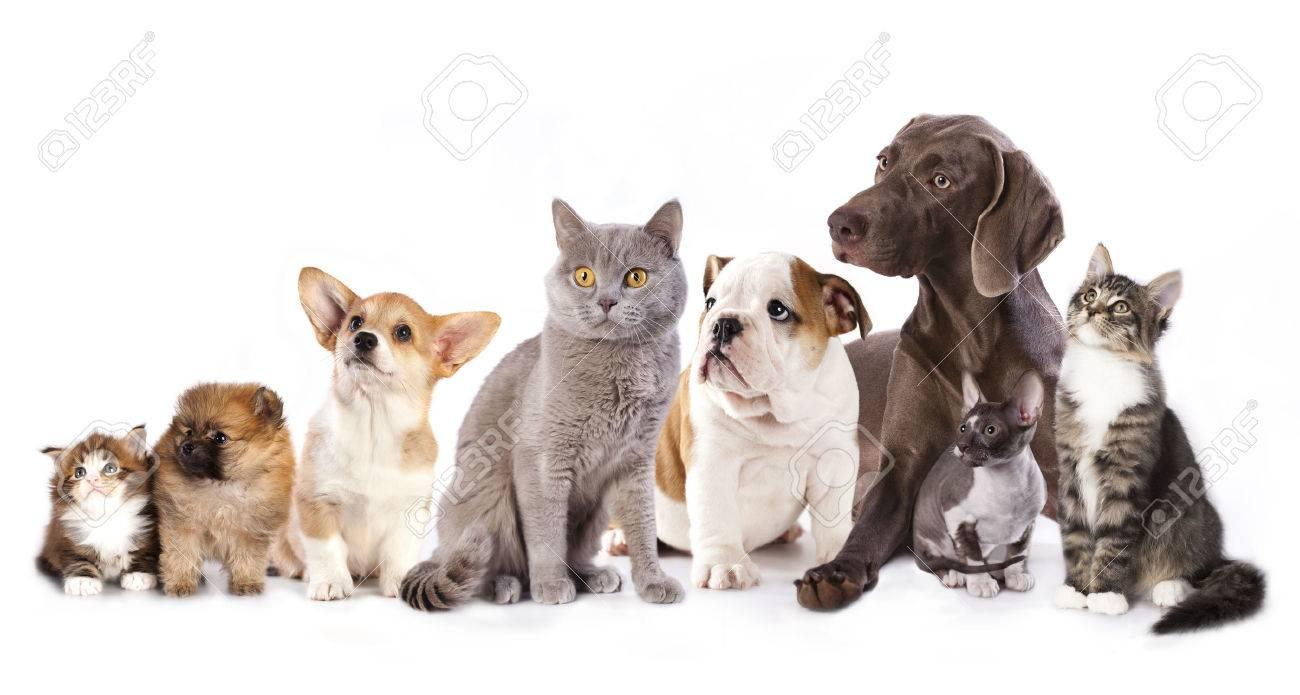cats: (454, 169, 687, 620), (1057, 230, 1276, 642), (924, 369, 1045, 616), (21, 410, 164, 616)
dogs: (294, 253, 501, 610), (830, 80, 1071, 365), (680, 254, 871, 607), (156, 377, 302, 606)
